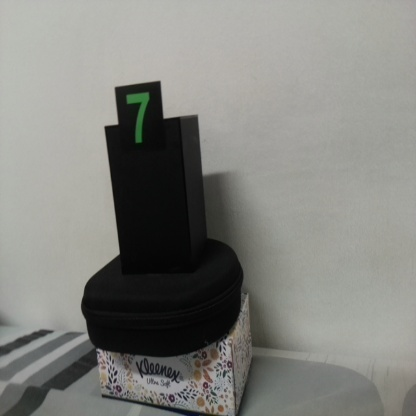id_7: (117, 85, 162, 155)
